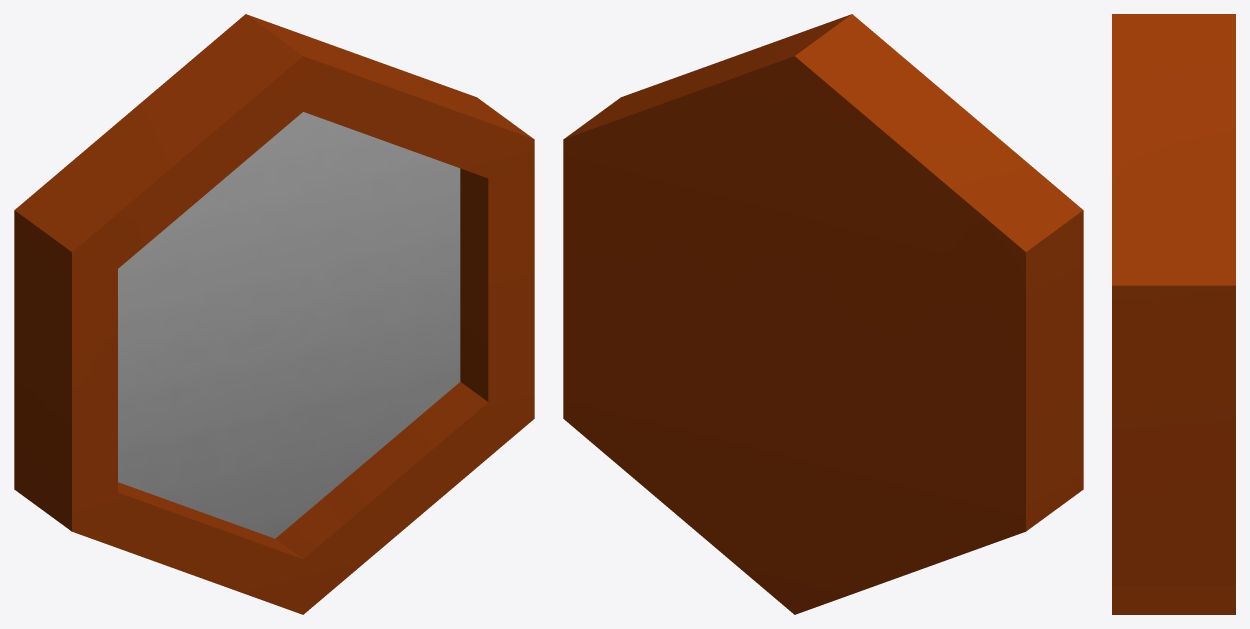
Rendered from Reloj 1.fbx.
3 renders of one model, left to right at view 1: azimuth 30°, elevation 25°; view 2: azimuth 150°, elevation 25°; view 3: azimuth 270°, elevation 25°, orthographic. The views are drawn at different scales.
Parts seen in each view (by area): view 1: Reloj.001; view 2: Reloj.001; view 3: Reloj.001.
Part boxes in pixels (left/top/right/bottom): Reloj.001: left=14, top=14, right=534, bottom=614; Reloj.001: left=563, top=14, right=1083, bottom=614; Reloj.001: left=1112, top=14, right=1235, bottom=614.
Size of the model in its own units: 1.73 by 2 by 0.3731.
Materials: 1 (1 with a texture image).
